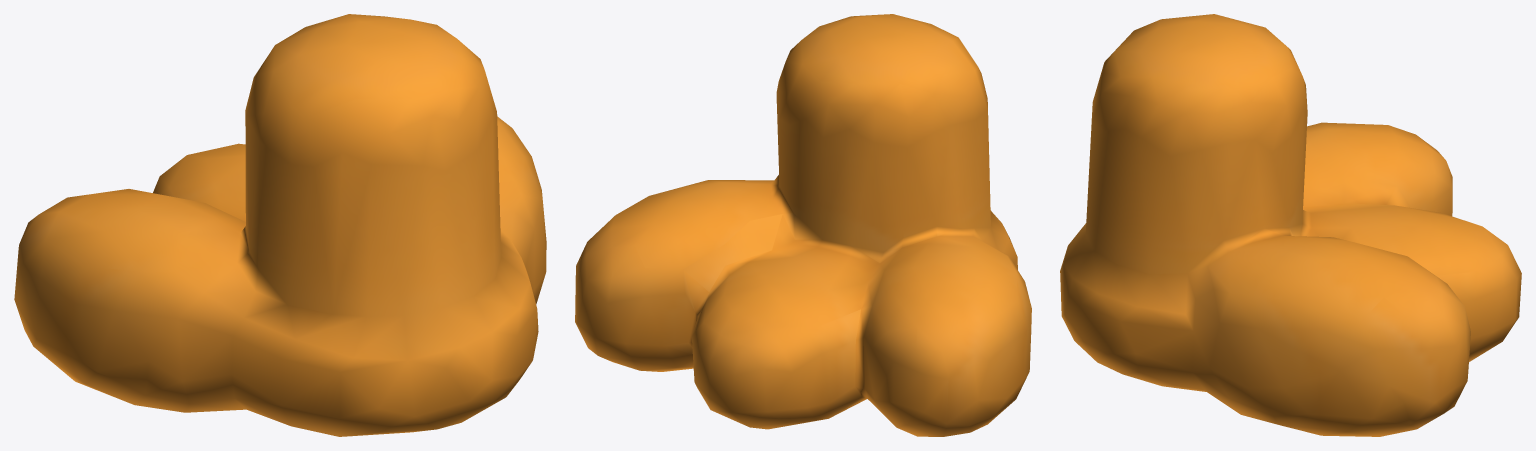
The model's file is studio.glb.
3 views of the same model, side by side, from view 1: azimuth 30°, elevation 25°; view 2: azimuth 150°, elevation 25°; view 3: azimuth 270°, elevation 25° (orthographic). The views are drawn at different scales.
Size of the model in its own units: 1.47 by 1.04 by 1.37.
1 material, 1 textured.
